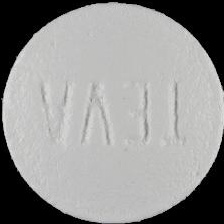43063-668: (0, 0, 224, 224)
